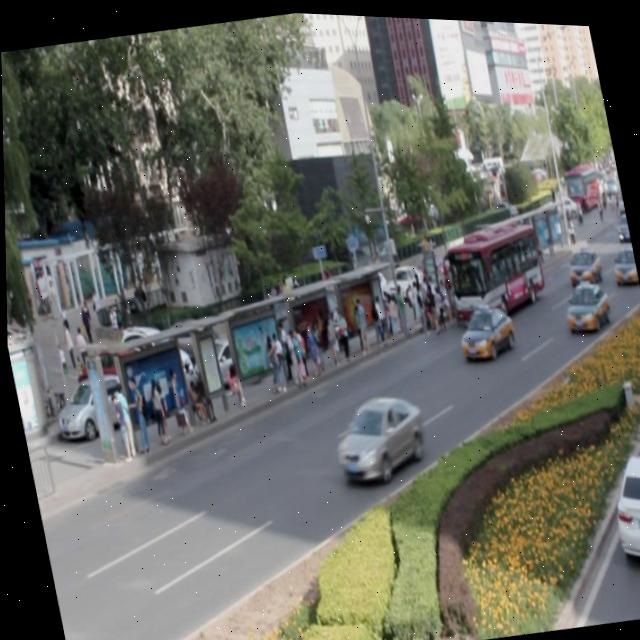car: (323, 383, 429, 481), (450, 294, 517, 360), (557, 271, 609, 332), (560, 237, 602, 285), (607, 237, 637, 280)
van: (436, 205, 548, 322)
